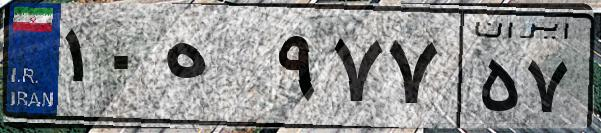0: (110, 28, 158, 98)
1: (57, 26, 110, 100)
5: (475, 38, 525, 113)
7: (385, 28, 445, 110), (330, 28, 385, 110), (525, 38, 570, 115)
9: (270, 28, 330, 110)
ه: (158, 20, 270, 120)
